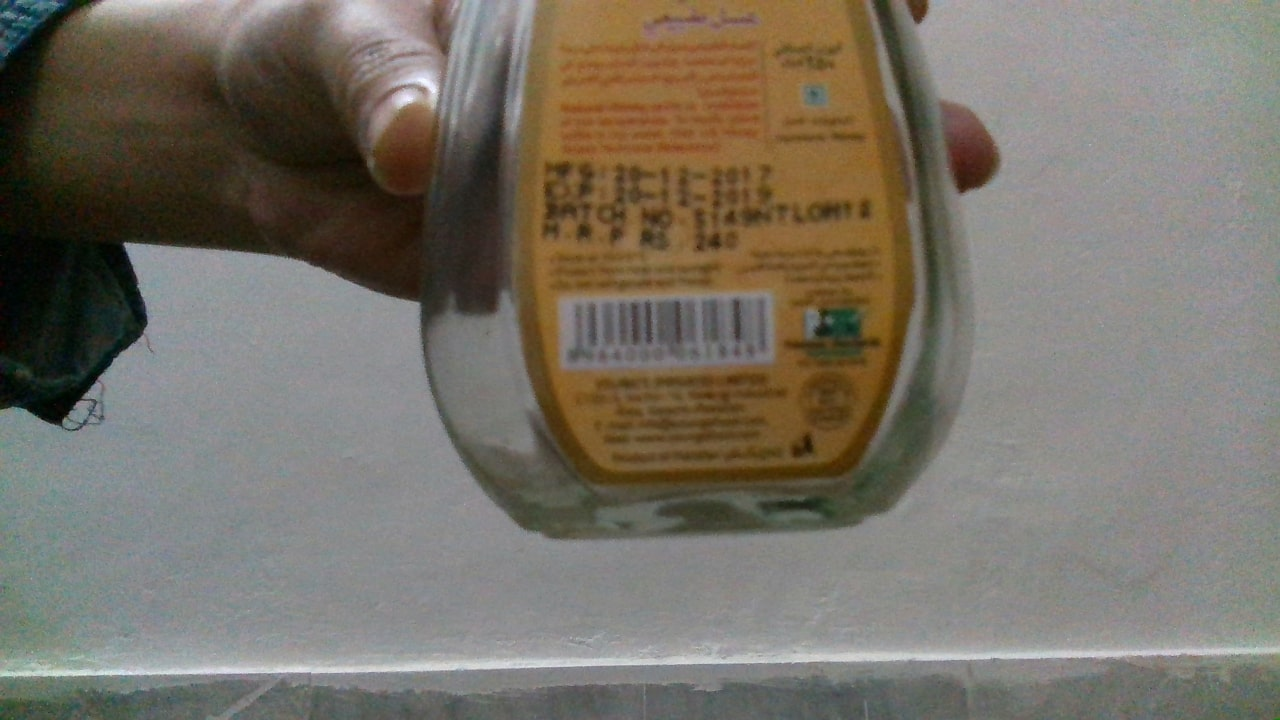Barcode: (573, 297, 772, 362)
